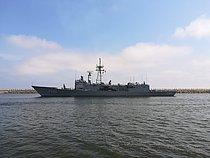MIL_Ship: (30, 55, 177, 99)
